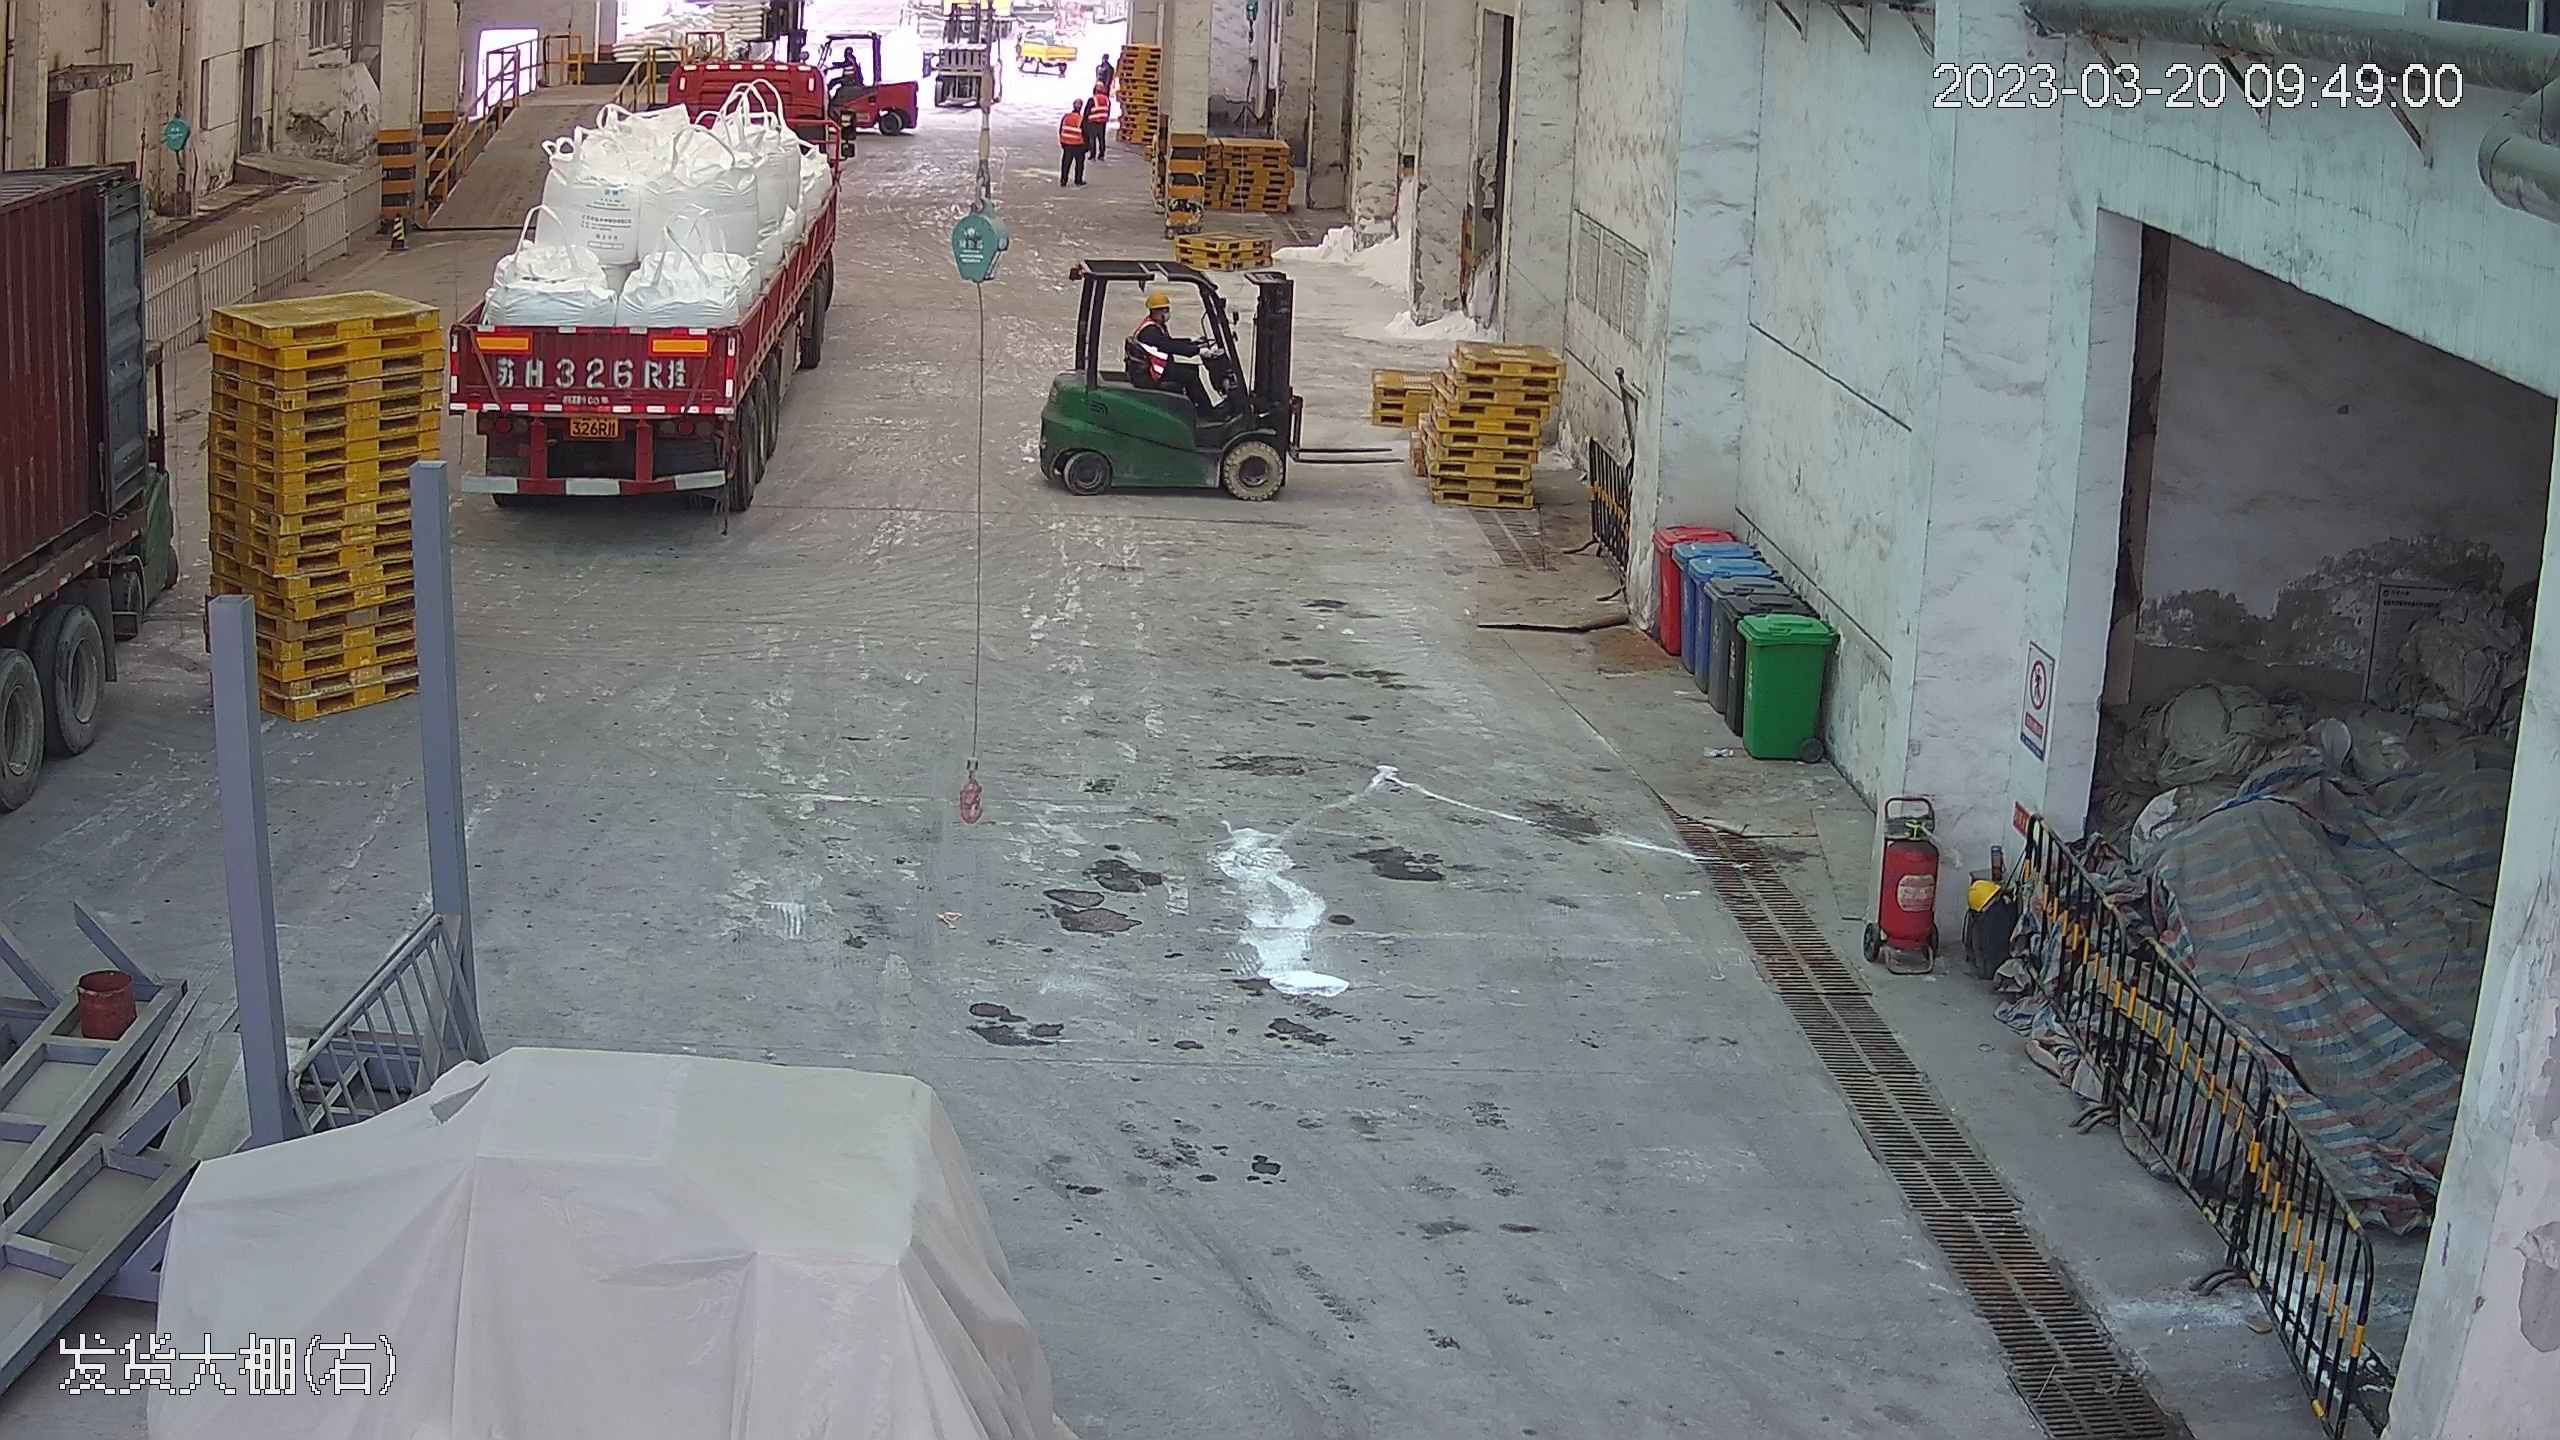head: (1135, 288, 1184, 344), (1064, 96, 1087, 127), (1088, 80, 1107, 106), (1097, 54, 1113, 77), (842, 45, 856, 69)
helmet: (1144, 288, 1170, 312), (1073, 97, 1084, 109), (1094, 80, 1103, 92), (844, 47, 852, 55), (1102, 53, 1110, 60)
people: (1129, 286, 1219, 415), (1060, 94, 1093, 181), (1086, 78, 1109, 161), (829, 46, 862, 90)
truck: (457, 16, 853, 522), (1, 17, 192, 866)
